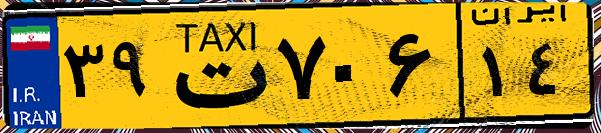0: (330, 28, 385, 110)
1: (475, 38, 525, 113)
3: (57, 26, 110, 100)
4: (525, 38, 570, 115)
6: (385, 28, 445, 110)
7: (270, 28, 330, 110)
9: (110, 28, 158, 98)
ت: (158, 12, 270, 120)
